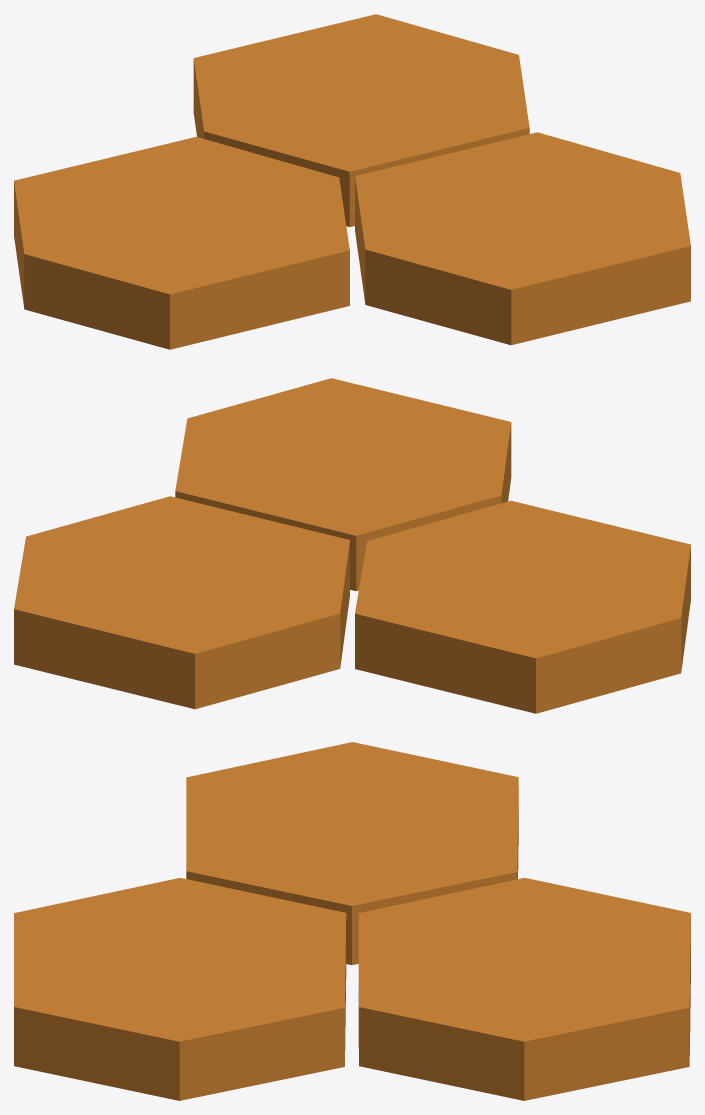
Rendered from rock3.fbx.
3 renders of one model, top to bottom at view 1: azimuth 30°, elevation 25°; view 2: azimuth 150°, elevation 25°; view 3: azimuth 270°, elevation 25°, orthographic. The views are drawn at different scales.
Visible parts, largest first — view 1: Cube.002, Cube, Cube.001; view 2: Cube, Cube.001, Cube.002; view 3: Cube.001, Cube.002, Cube.
Part boxes in pixels (<box>): Cube.002: <box>355,132,690,345</box>; Cube: <box>14,137,349,349</box>; Cube.001: <box>193,14,529,226</box>; Cube: <box>355,500,690,713</box>; Cube.001: <box>14,496,349,709</box>; Cube.002: <box>175,378,511,591</box>; Cube.001: <box>358,878,690,1100</box>; Cube.002: <box>14,878,346,1100</box>; Cube: <box>186,742,518,964</box>.
Size of the model in its own units: 905 by 83.38 by 864.
